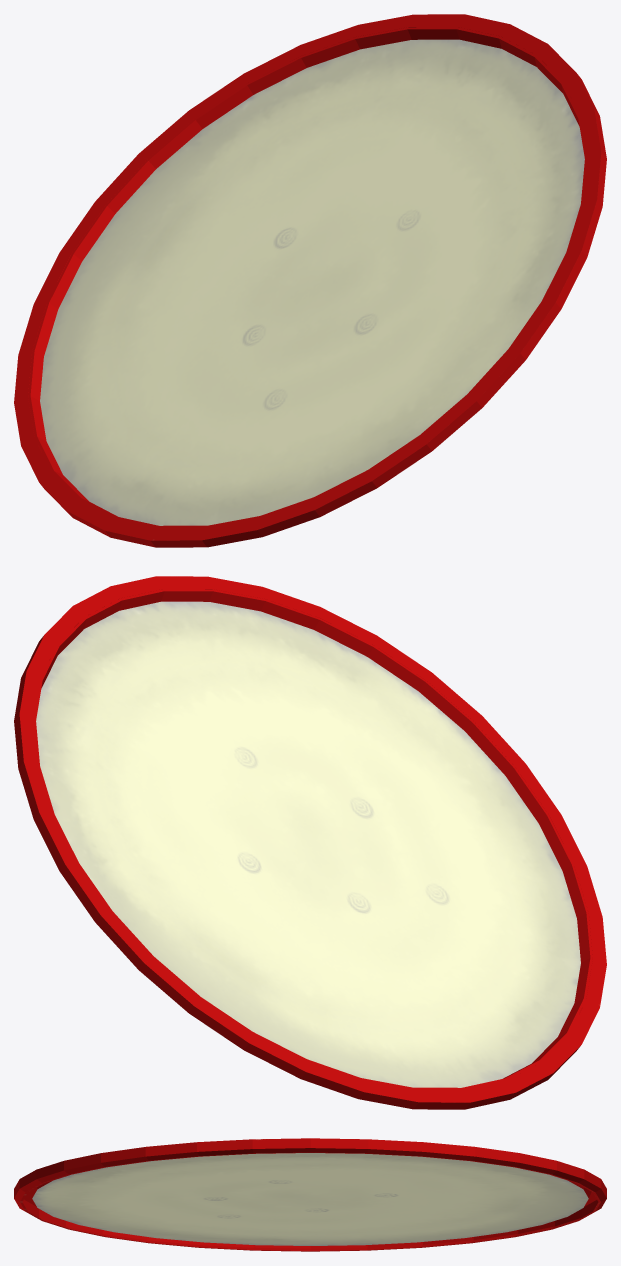
The model's file is Broken Drum top.fbx.
3 renders of one model, top to bottom at view 1: azimuth 30°, elevation 25°; view 2: azimuth 150°, elevation 25°; view 3: azimuth 270°, elevation 25°, orthographic. The views are drawn at different scales.
Parts seen in each view (by area): view 1: Cylinder; view 2: Cylinder; view 3: Cylinder.
Boxes of the visible parts, x1,y1,x2,y2 form: Cylinder: (14,14,606,547); Cylinder: (14,576,606,1109); Cylinder: (14,1138,606,1251).
Size of the model in its own units: 72.81 by 51.26 by 87.67.
Materials: 1 (1 with a texture image).
